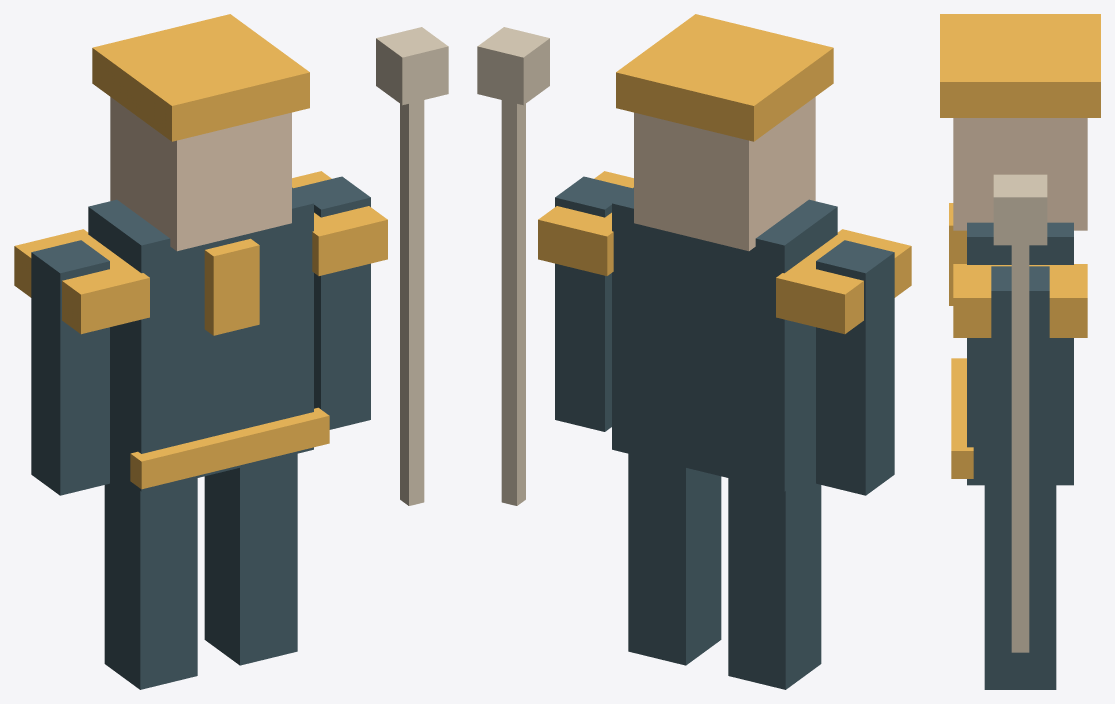
The model's file is 02_calder_gantryn_cartographer_from_sedation.glb.
3 views of the same model, side by side, from view 1: azimuth 30°, elevation 25°; view 2: azimuth 150°, elevation 25°; view 3: azimuth 270°, elevation 25° (orthographic).
Visible parts, largest first — view 1: Calder Gantryn, Cartographer from Sedation; view 2: Calder Gantryn, Cartographer from Sedation; view 3: Calder Gantryn, Cartographer from Sedation.
Boxes of the visible parts, left/top/right/bottom form: Calder Gantryn, Cartographer from Sedation: left=14, top=14, right=448, bottom=689; Calder Gantryn, Cartographer from Sedation: left=477, top=14, right=911, bottom=689; Calder Gantryn, Cartographer from Sedation: left=940, top=14, right=1100, bottom=689.
Size of the model in its own units: 1.1 by 1.61 by 0.3898.
